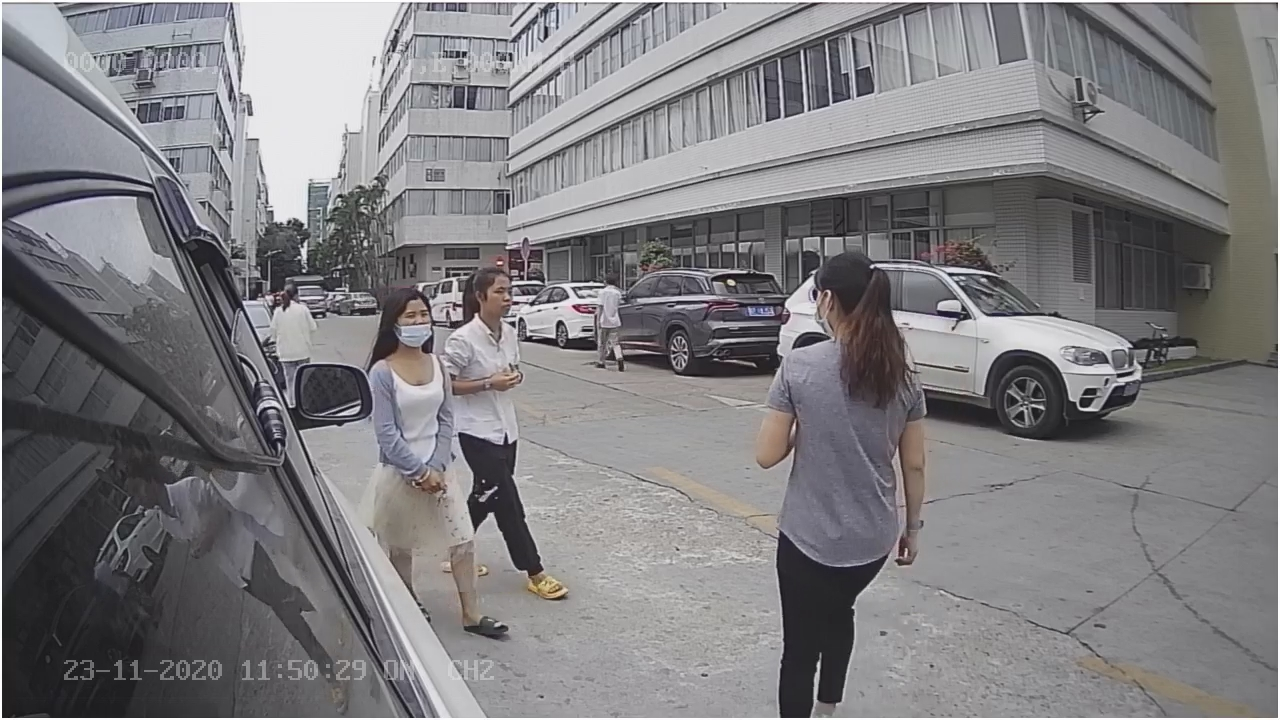person: (753, 247, 926, 487), (364, 273, 466, 488)
